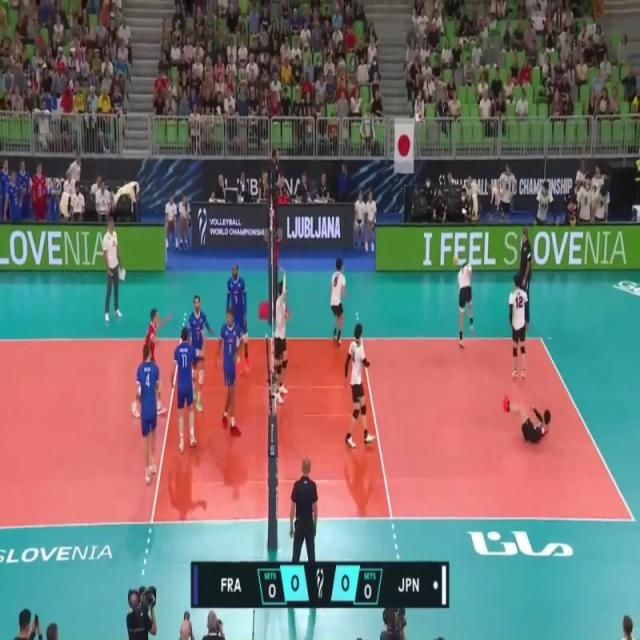volleyball: (451, 252, 461, 270)
